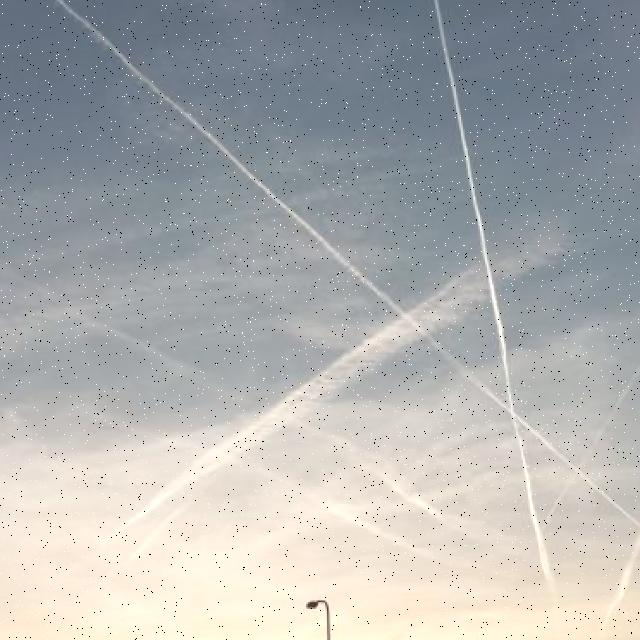Ct: (20, 27, 640, 538)
